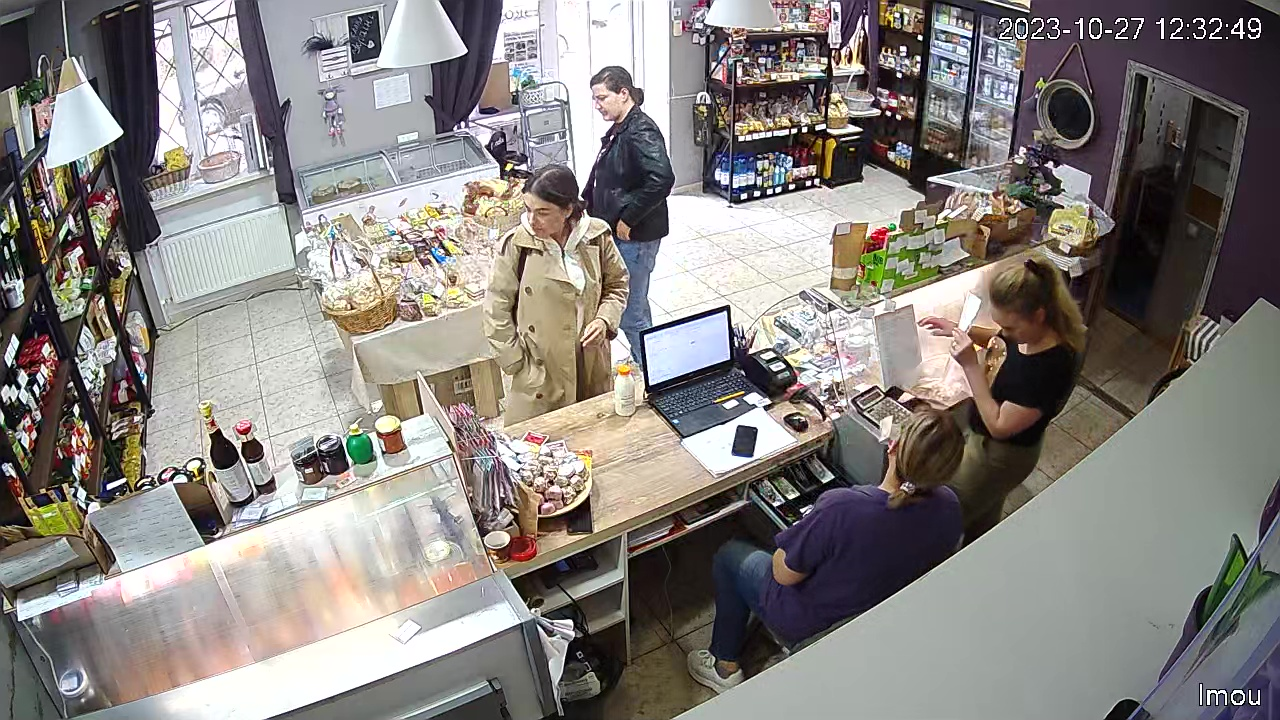openedcash: (733, 442, 875, 541)
